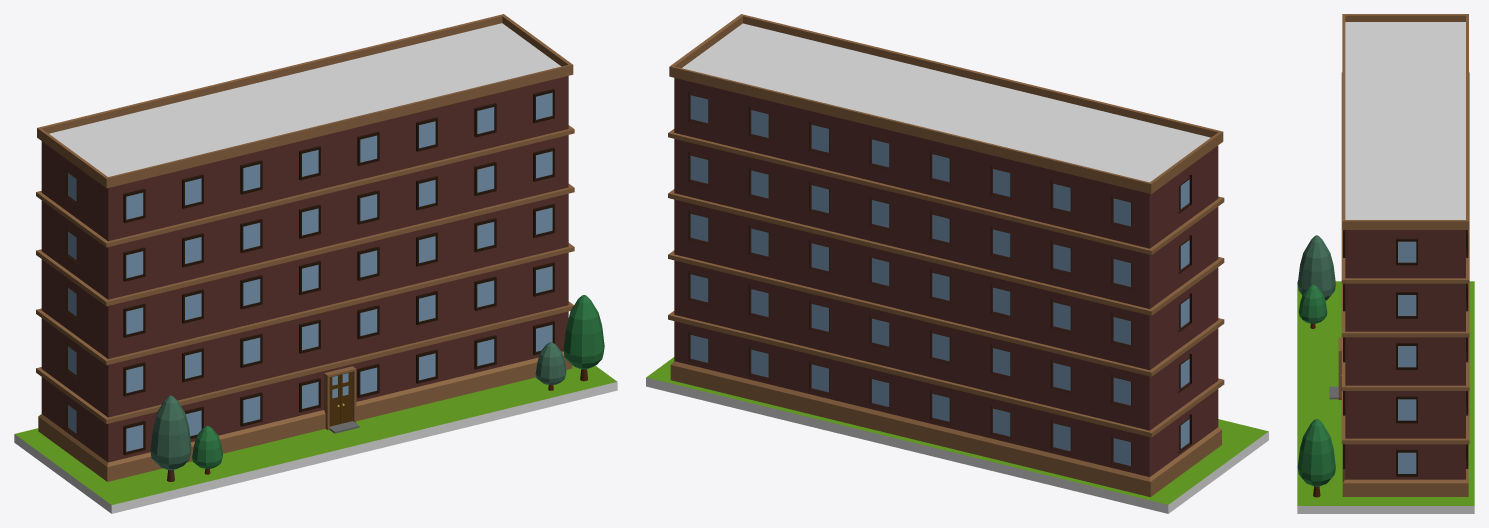
The model's file is Building Type 1 Lvl 2.gltf.
3 renders of one model, left to right at view 1: azimuth 30°, elevation 25°; view 2: azimuth 150°, elevation 25°; view 3: azimuth 270°, elevation 25°, orthographic. The views are drawn at different scales.
Parts seen in each view (by area): view 1: zgrada.001, prozori zgrada.001, BAZA 1x3.001, cempres veliki.002, cempres veliki.001, ulazna vrata zgrade.001, cempres mali.001, cempres mali.002; view 2: zgrada.001, prozori zgrada.001, BAZA 1x3.001; view 3: zgrada.001, BAZA 1x3.001, prozori zgrada.001, cempres veliki.001, cempres veliki.002, cempres mali.002, ulazna vrata zgrade.001.
Boxes of the visible parts, x1=… form: zgrada.001: x1=36, y1=14, x2=574, y2=481; prozori zgrada.001: x1=65, y1=89, x2=554, y2=454; BAZA 1x3.001: x1=14, y1=365, x2=617, y2=513; cempres veliki.002: x1=150, y1=395, x2=191, y2=481; cempres veliki.001: x1=563, y1=295, x2=604, y2=381; ulazna vrata zgrade.001: x1=324, y1=366, x2=359, y2=433; cempres mali.001: x1=535, y1=342, x2=566, y2=390; cempres mali.002: x1=192, y1=426, x2=222, y2=474; zgrada.001: x1=668, y1=14, x2=1224, y2=497; prozori zgrada.001: x1=688, y1=91, x2=1191, y2=469; BAZA 1x3.001: x1=646, y1=357, x2=1268, y2=513; zgrada.001: x1=1341, y1=14, x2=1469, y2=496; BAZA 1x3.001: x1=1297, y1=281, x2=1474, y2=513; prozori zgrada.001: x1=1343, y1=230, x2=1468, y2=476; cempres veliki.001: x1=1297, y1=419, x2=1335, y2=497; cempres veliki.002: x1=1297, y1=235, x2=1335, y2=300; cempres mali.002: x1=1298, y1=284, x2=1327, y2=328; ulazna vrata zgrade.001: x1=1329, y1=337, x2=1341, y2=399.
Size of the model in its own units: 6 by 3.54 by 2.
